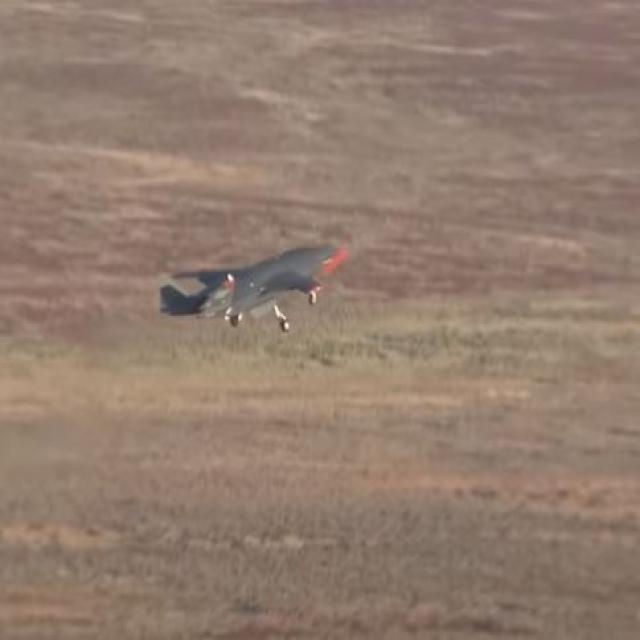iha: (160, 268, 353, 304)
